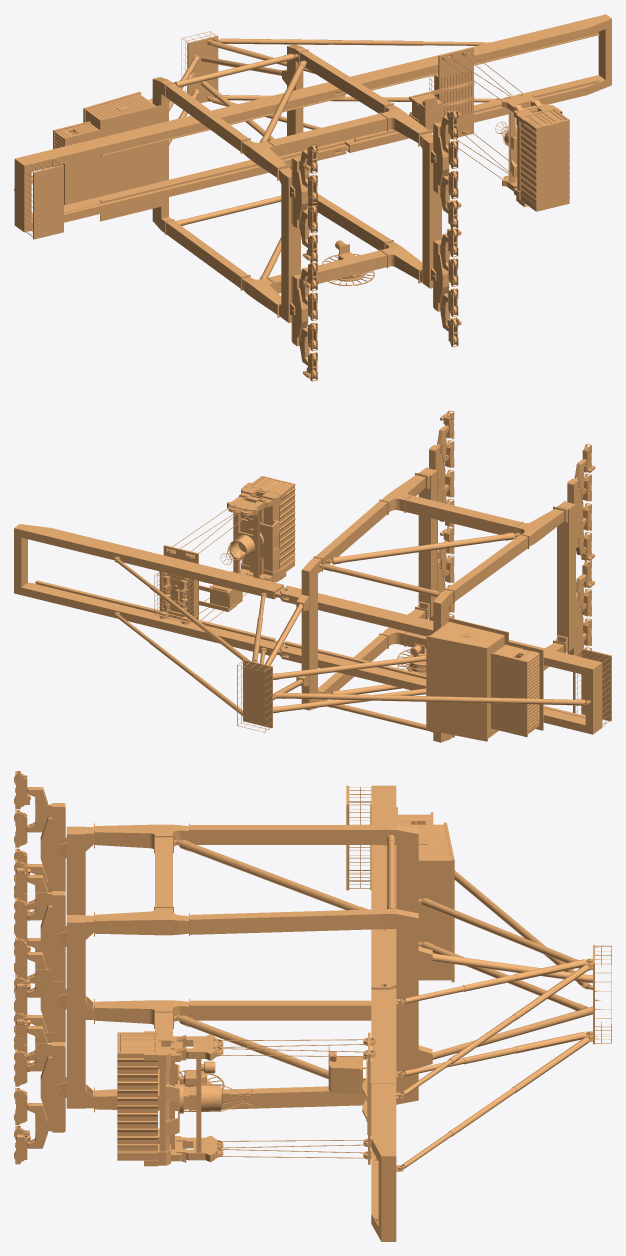
Rendered from quay_crane.glb.
3 renders of one model, top to bottom at view 1: azimuth 30°, elevation 25°; view 2: azimuth 150°, elevation 25°; view 3: azimuth 270°, elevation 25°, orthographic. The views are drawn at different scales.
Parts seen in each view (by area): view 1: world; view 2: world; view 3: world.
Part boxes in pixels (x1,y1,x2,y2): world: (14, 14, 611, 381); world: (14, 410, 611, 742); world: (14, 771, 611, 1241).
Bounding box in the file's own units: 15.79 × 6 × 10.77.
